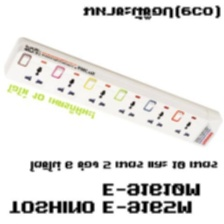three_eye_plug: (2, 36, 223, 149)
